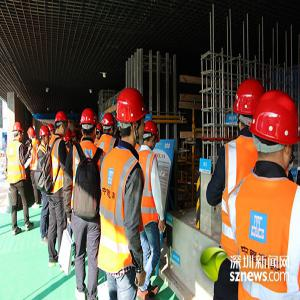red: (253, 90, 299, 172), (117, 89, 147, 144), (234, 78, 264, 131), (143, 120, 161, 152), (80, 108, 97, 140), (55, 112, 69, 138), (13, 121, 25, 144), (104, 113, 116, 135), (40, 126, 52, 148), (28, 127, 36, 141)
